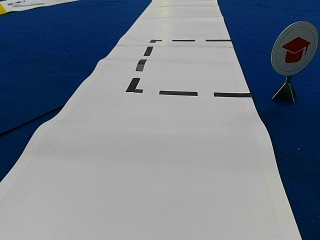school: (271, 22, 317, 75)
